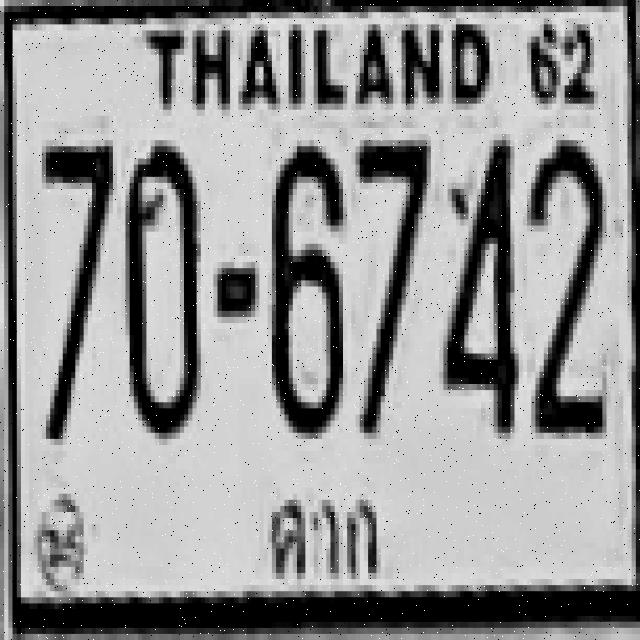0: (123, 140, 199, 432)
2: (526, 138, 602, 418), (532, 140, 602, 432)
4: (439, 138, 515, 430)
6: (268, 140, 344, 432)
7: (356, 134, 426, 432), (42, 144, 113, 436), (42, 140, 113, 342), (42, 143, 113, 320)
Tak: (249, 479, 402, 594)
